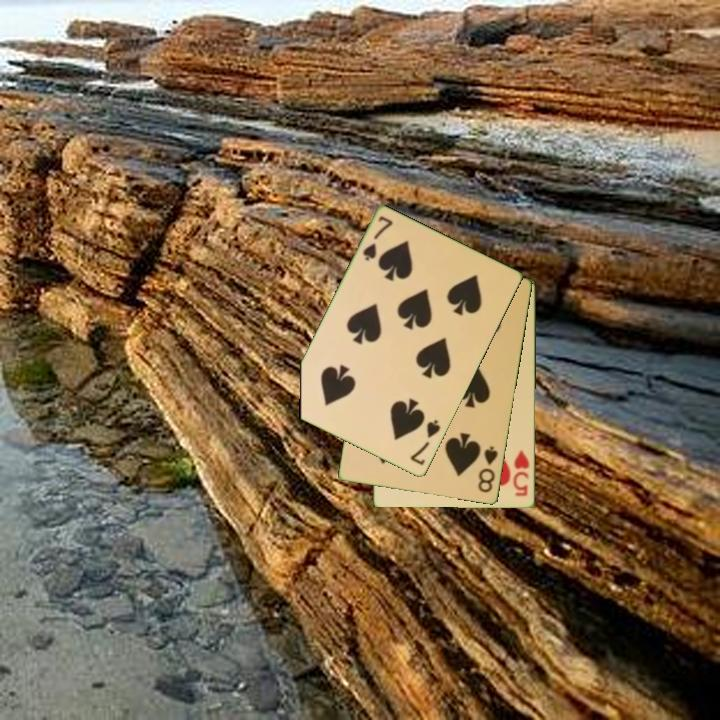5h: (510, 446, 532, 499)
7s: (359, 213, 396, 264), (407, 417, 443, 469)
8s: (475, 443, 501, 496)
